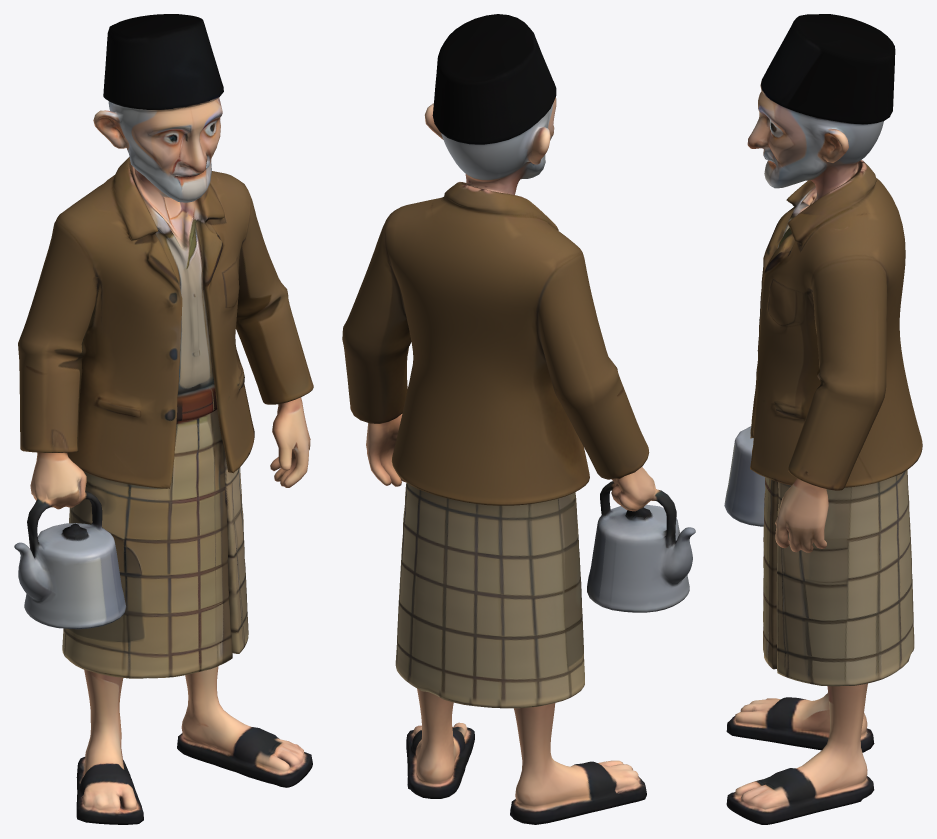
File: npc_abah_aceng.glb
3 views of the same model, side by side, from view 1: azimuth 30°, elevation 25°; view 2: azimuth 150°, elevation 25°; view 3: azimuth 270°, elevation 25° (orthographic). The views are drawn at different scales.
Visible parts, largest first — view 1: model; view 2: model; view 3: model.
Part boxes in pixels (x1,y1,x2,y2): model: (14, 14, 313, 824); model: (342, 14, 695, 824); model: (724, 14, 922, 824).
Bounding box in the file's own units: 0.7756 × 1.77 × 0.4263.
1 material, 1 textured.
